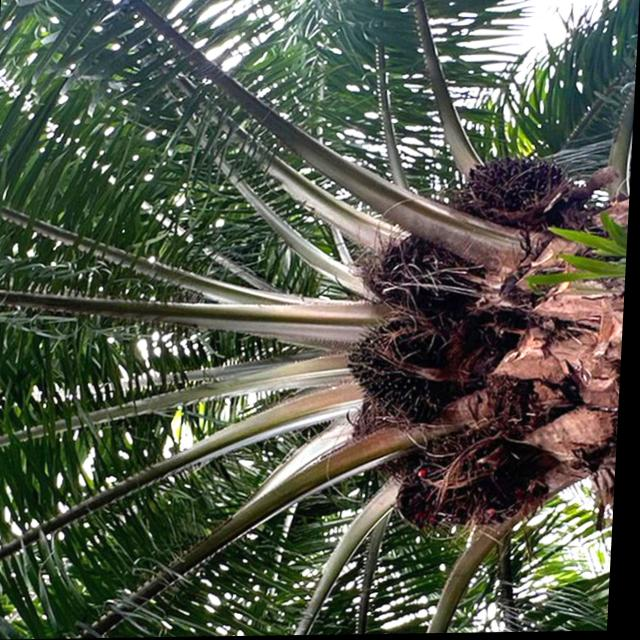unripe: (394, 420, 537, 537), (344, 320, 460, 422), (460, 151, 576, 229)
